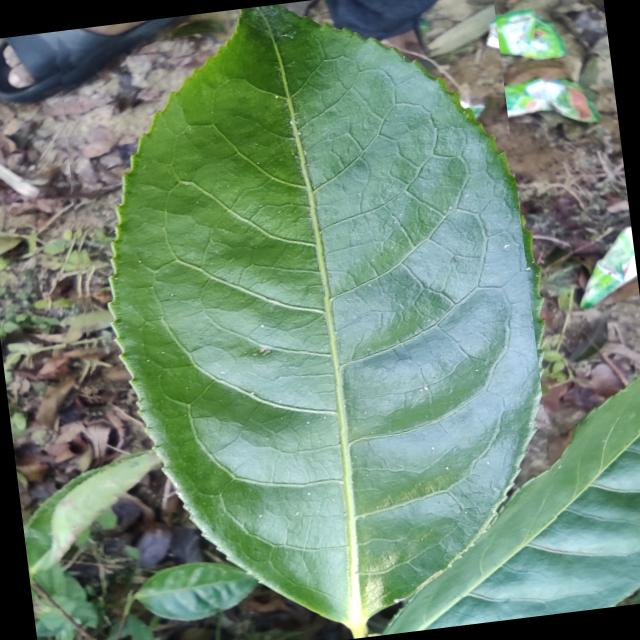Category D(7+ days, Not for Tea): (41, 0, 567, 640)
